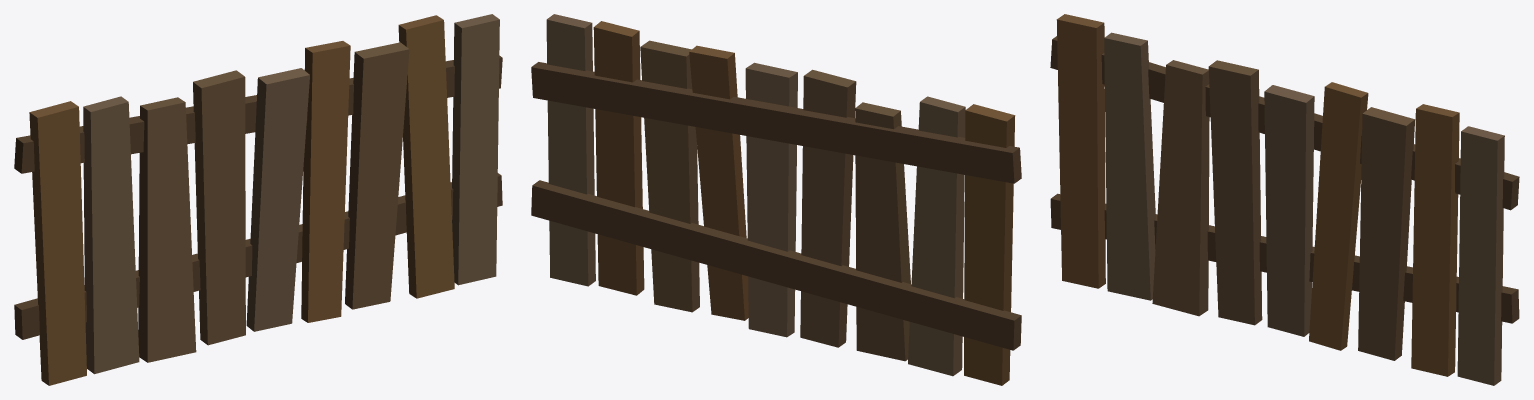
File: Fence_A1.fbx
The picture shows the model from 3 angles, left to right: view 1: azimuth 30°, elevation 25°; view 2: azimuth 150°, elevation 25°; view 3: azimuth 330°, elevation 25°; orthographic projection. The views are drawn at different scales.
Parts seen in each view (by area): view 1: Fence_A1; view 2: Fence_A1; view 3: Fence_A1.
Boxes of the visible parts, x1,y1,x2,y2 form: Fence_A1: (14,14,502,385); Fence_A1: (531,14,1021,385); Fence_A1: (1050,14,1519,385).
Size of the model in its own units: 612 by 329 by 40.53.
Materials: 1 (1 with a texture image).
